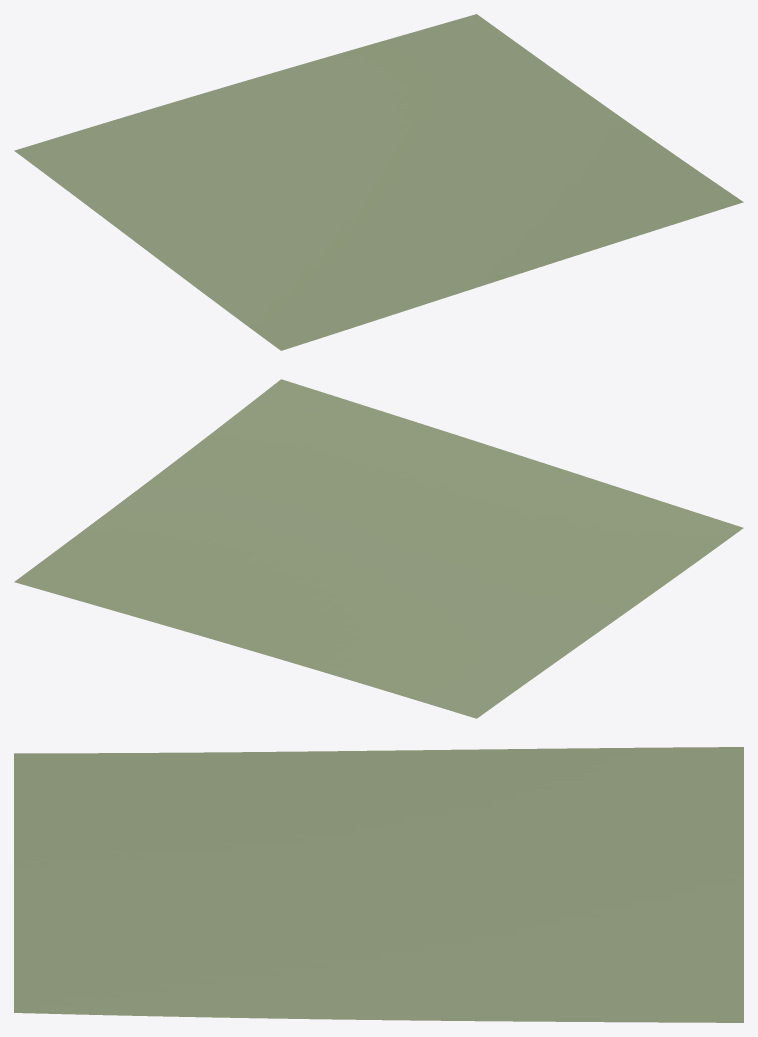
File: expanse-10-5.glb
The picture shows the model from 3 angles, top to bottom: view 1: azimuth 30°, elevation 25°; view 2: azimuth 150°, elevation 25°; view 3: azimuth 270°, elevation 25°; orthographic projection. The views are drawn at different scales.
Parts seen in each view (by area): view 1: expanse-10-5; view 2: expanse-10-5; view 3: expanse-10-5.
Boxes of the visible parts, x1,y1,x2,y2 form: expanse-10-5: (14,14,743,350); expanse-10-5: (14,379,743,718); expanse-10-5: (14,747,743,1022).
Bounding box in the file's own units: 256 × 18.94 × 256.
